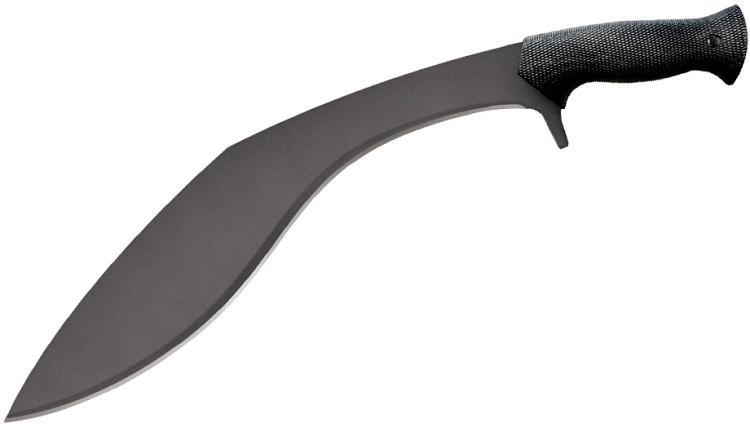facao: (0, 3, 750, 430)
